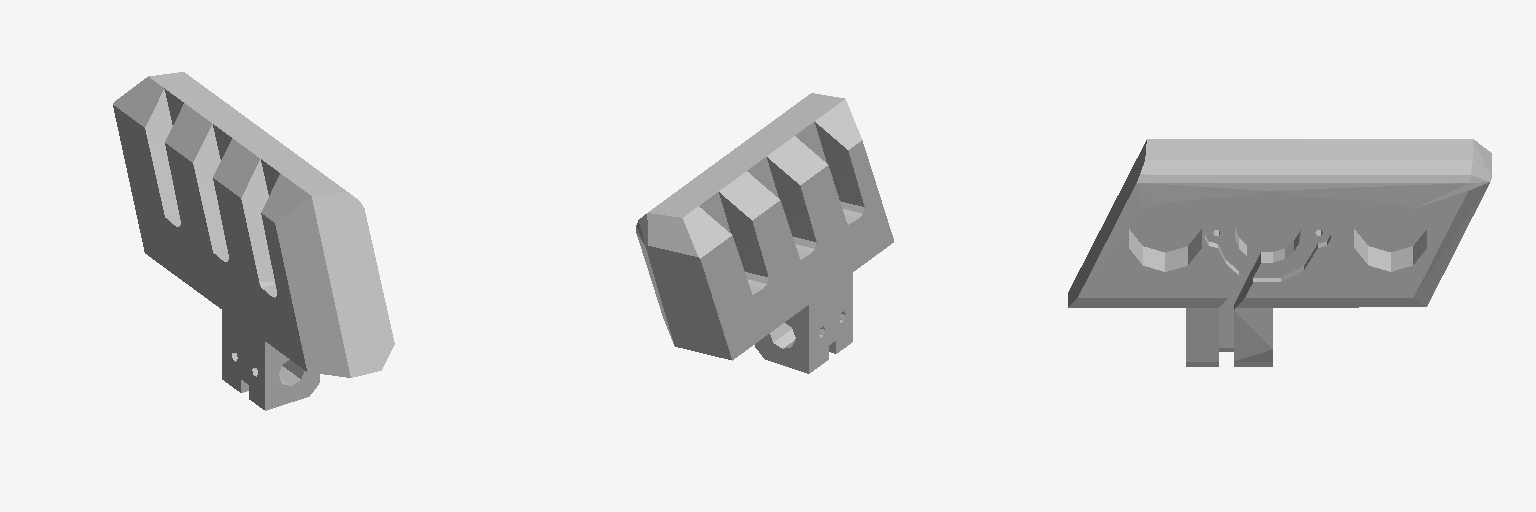
File: legr_toe2_joint.obj
3 views of the same model, side by side, from view 1: azimuth 30°, elevation 25°; view 2: azimuth 150°, elevation 25°; view 3: azimuth 270°, elevation 25° (orthographic).
Bounding box in the file's own units: 0.017 × 0.048 × 0.0827.